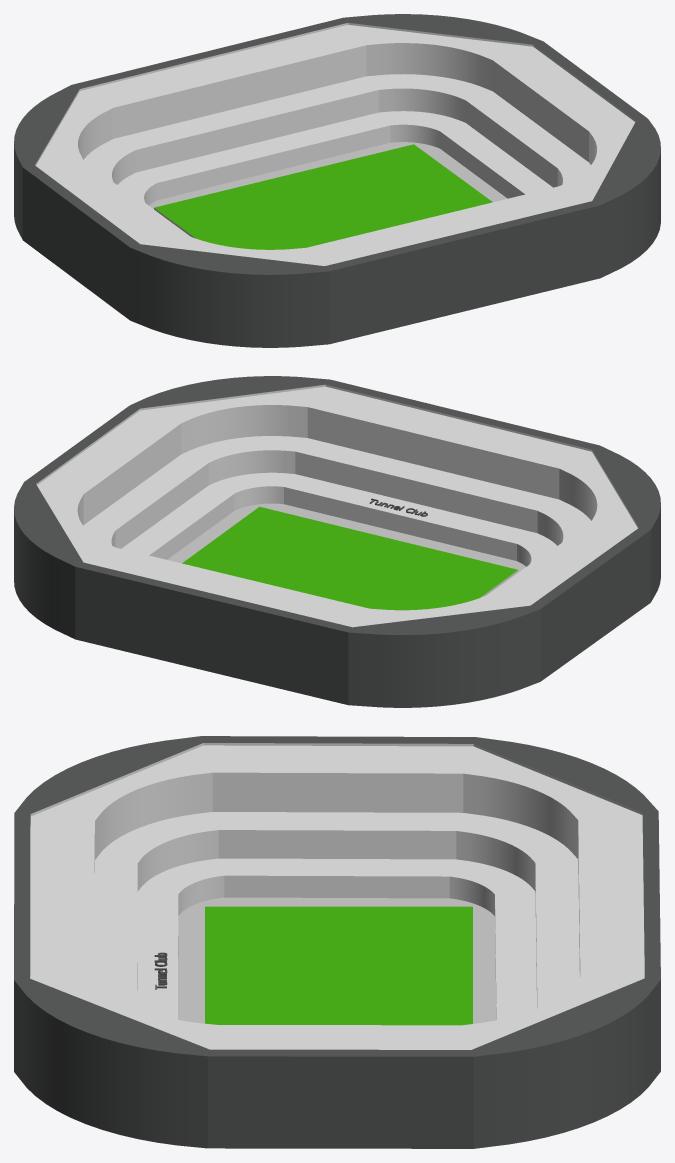
The model's file is Stadium.glb.
3 renders of one model, top to bottom at view 1: azimuth 30°, elevation 25°; view 2: azimuth 150°, elevation 25°; view 3: azimuth 270°, elevation 25°, orthographic. The views are drawn at different scales.
Visible parts, largest first — view 1: 3DGeom-5, 3DGeom-4, 3DGeom-1, 3DGeom-3, 3DGeom-2; view 2: 3DGeom-5, 3DGeom-4, 3DGeom-1, 3DGeom-3, 3DGeom-2; view 3: 3DGeom-5, 3DGeom-4, 3DGeom-1, 3DGeom-3, 3DGeom-2.
Boxes of the visible parts, <box> form: 3DGeom-5: <box>14,14,660,347</box>; 3DGeom-4: <box>36,25,635,265</box>; 3DGeom-1: <box>35,23,635,238</box>; 3DGeom-3: <box>154,144,492,249</box>; 3DGeom-2: <box>149,142,507,235</box>; 3DGeom-5: <box>14,376,660,707</box>; 3DGeom-4: <box>37,386,637,627</box>; 3DGeom-1: <box>36,384,638,597</box>; 3DGeom-3: <box>182,506,517,610</box>; 3DGeom-2: <box>167,503,525,595</box>; 3DGeom-5: <box>14,736,660,1148</box>; 3DGeom-4: <box>30,745,644,1049</box>; 3DGeom-1: <box>30,743,644,1019</box>; 3DGeom-3: <box>205,906,472,1025</box>; 3DGeom-2: <box>178,897,496,1023</box>.
Bounding box in the file's own units: 23.69 × 3.17 × 20.19.
